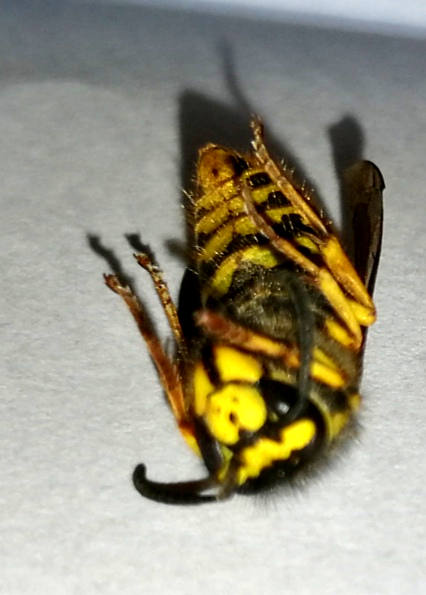chax: (76, 64, 410, 518)
